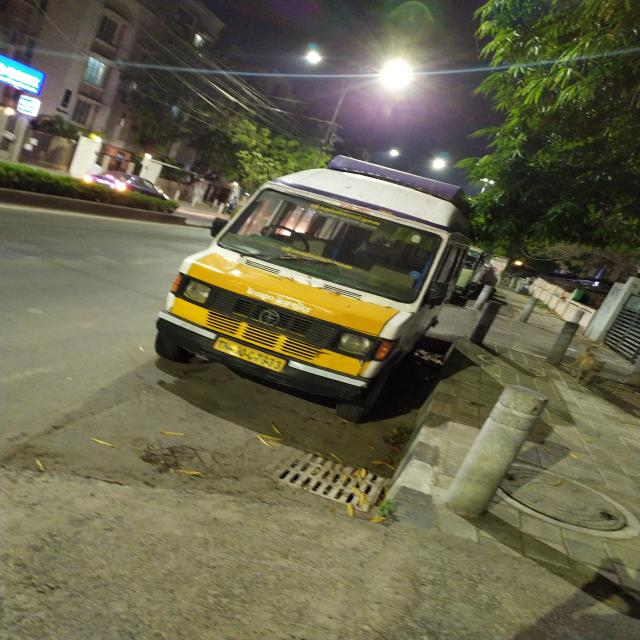Traveller: (155, 156, 470, 422)
